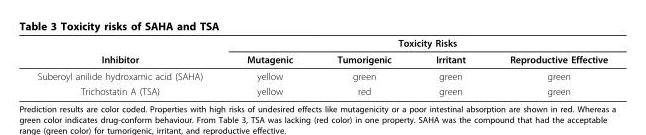table: (36, 36, 607, 96)
table column: (36, 36, 224, 96), (487, 36, 607, 96), (314, 36, 412, 96), (224, 36, 314, 96), (412, 36, 487, 96)
table column header: (36, 36, 607, 67)
table row: (36, 50, 607, 67), (36, 67, 607, 83), (36, 36, 607, 50), (36, 83, 607, 96)
table spanning cell: (36, 36, 224, 67), (224, 36, 607, 50)
